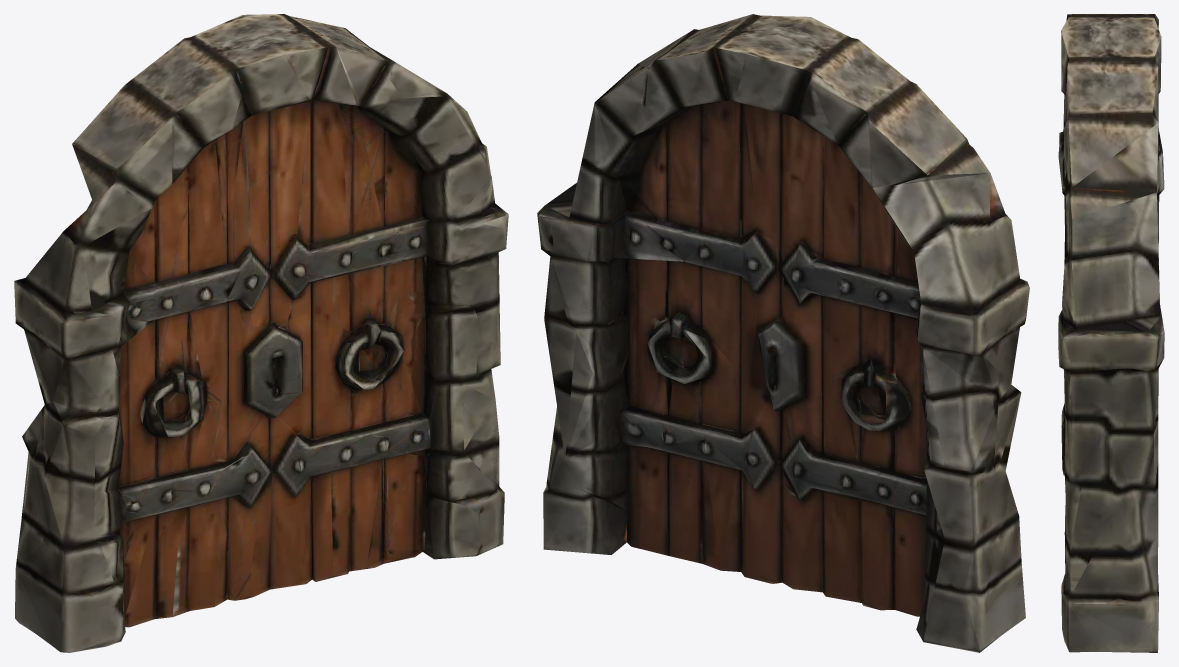
Rendered from poi_gate.glb.
3 views of the same model, side by side, from view 1: azimuth 30°, elevation 25°; view 2: azimuth 150°, elevation 25°; view 3: azimuth 270°, elevation 25° (orthographic). The views are drawn at different scales.
Visible parts, largest first — view 1: Mesh_0; view 2: Mesh_0; view 3: Mesh_0.
Part boxes in pixels (bbox=[...]): Mesh_0: bbox=[14, 14, 508, 652]; Mesh_0: bbox=[537, 14, 1029, 652]; Mesh_0: bbox=[1058, 14, 1164, 652].
Size of the model in its own units: 1.91 by 2.25 by 0.4147.
1 material, 1 textured.
